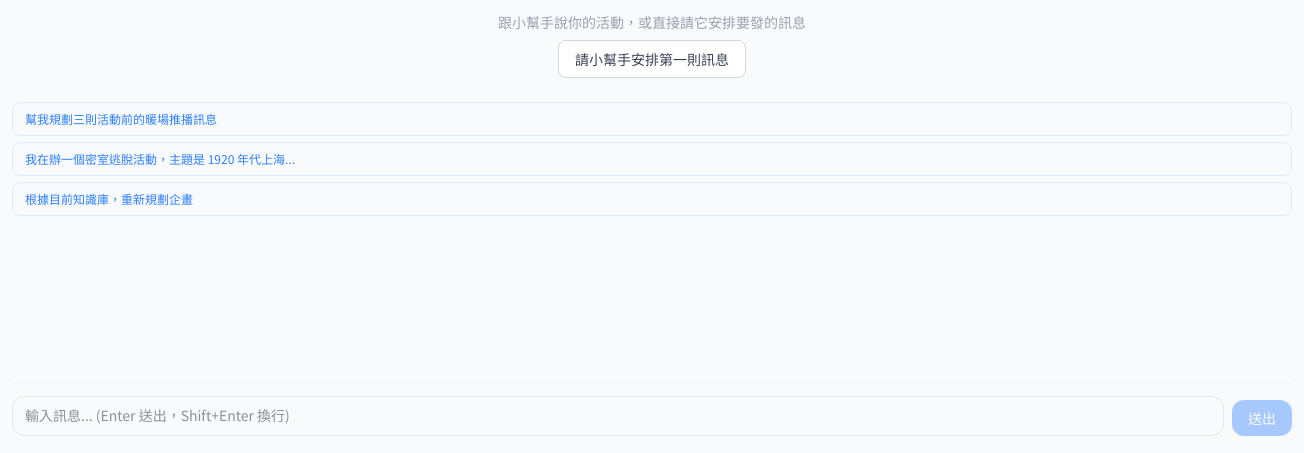
Scenario: AgentChatPanel — async queued + onSnapshot › shows generic error for unknown failure reason
Type "規劃" into the text box with placeholder "輸入訊息... (Enter 送出，Shift+Enter 換行)" at coordinates (618, 416), box [12, 396, 1224, 436]
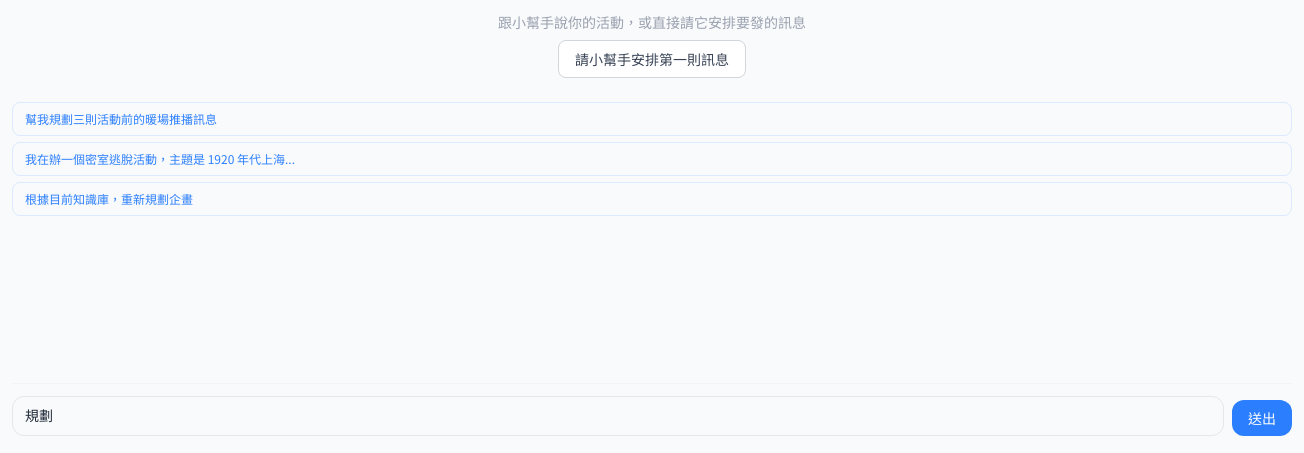
Click the button "送出" at coordinates (1262, 418), box [1232, 400, 1292, 436]
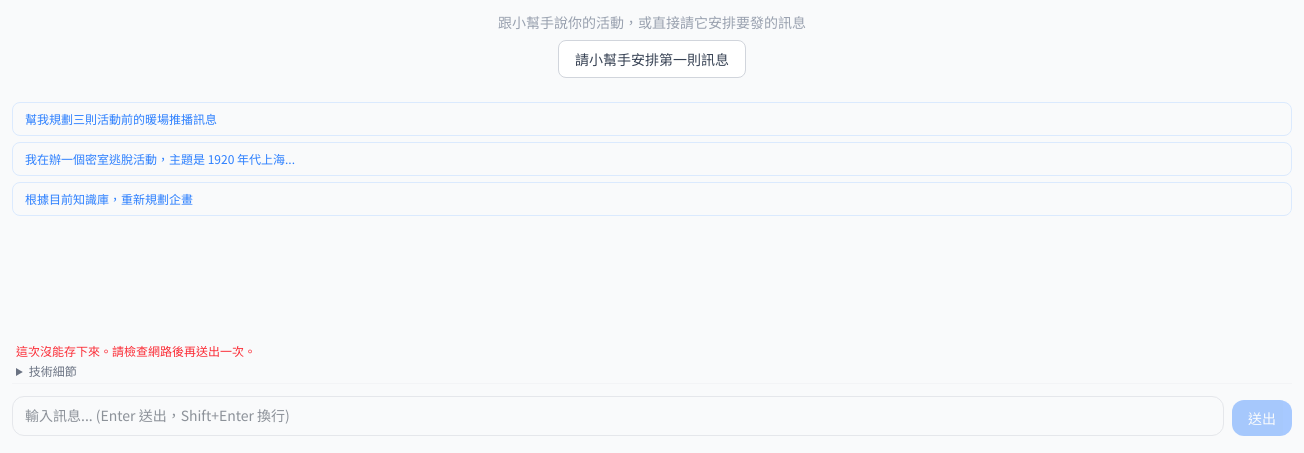
Expected: the message does not show "persistence_error", [16, 342, 256, 359]
Expected: the message shows "這次沒能存下來", [16, 342, 256, 359]
